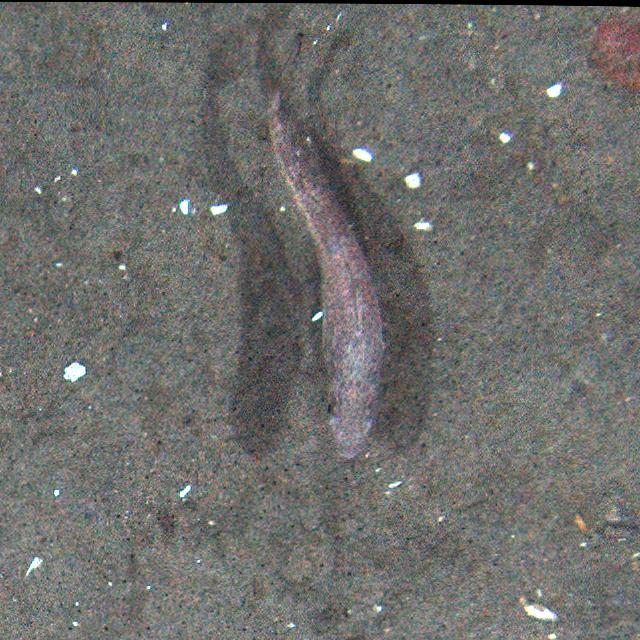roundfish: (258, 30, 394, 468)
